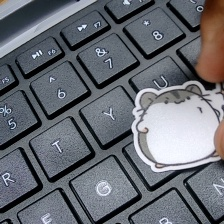mouse: (129, 80, 224, 172)
